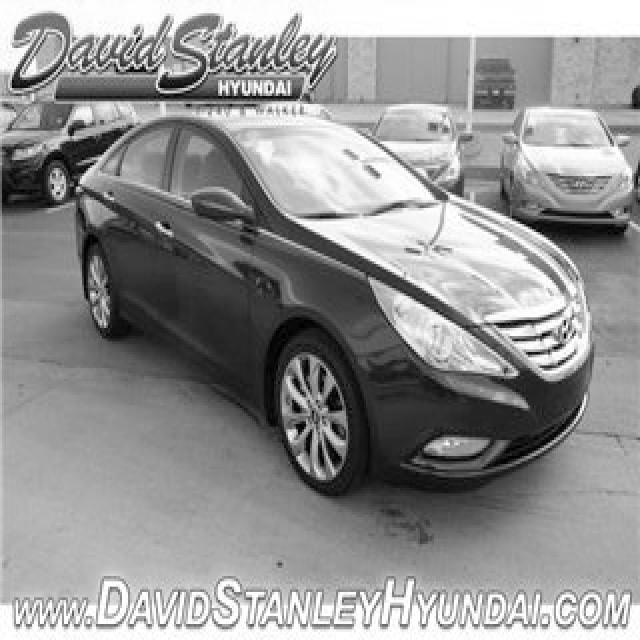car: (72, 107, 594, 496), (498, 104, 634, 232), (0, 94, 140, 205), (366, 101, 476, 198)
